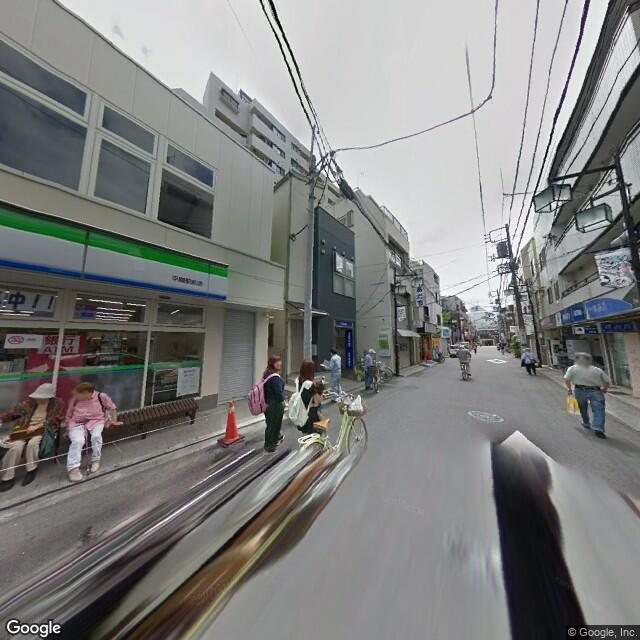family_mart: (1, 207, 228, 305)
